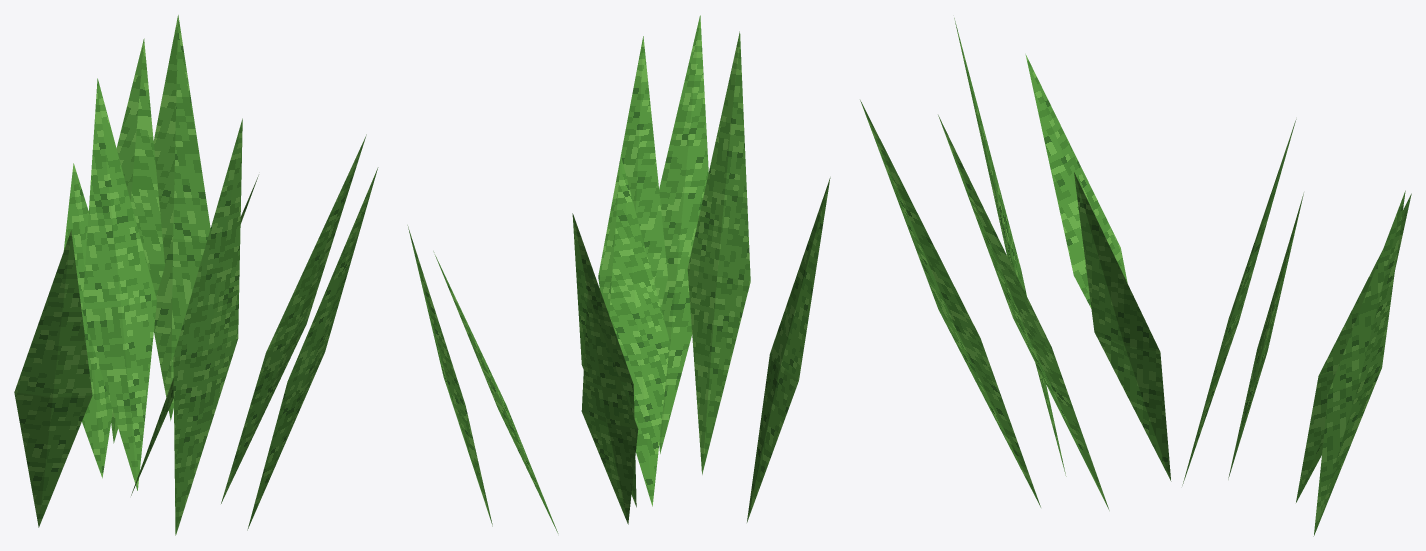
Rendered from grass_tuft_a.glb.
3 views of the same model, side by side, from view 1: azimuth 30°, elevation 25°; view 2: azimuth 150°, elevation 25°; view 3: azimuth 270°, elevation 25° (orthographic). The views are drawn at different scales.
Parts seen in each view (by area): view 1: Body.020; view 2: Body.020; view 3: Body.020.
Boxes of the visible parts, <box> form: Body.020: <box>14,15,378,535</box>; Body.020: <box>407,15,830,533</box>; Body.020: <box>860,18,1411,536</box>.
Size of the model in its own units: 0.2662 by 0.3847 by 0.4089.
Materials: 1 (1 with a texture image).
